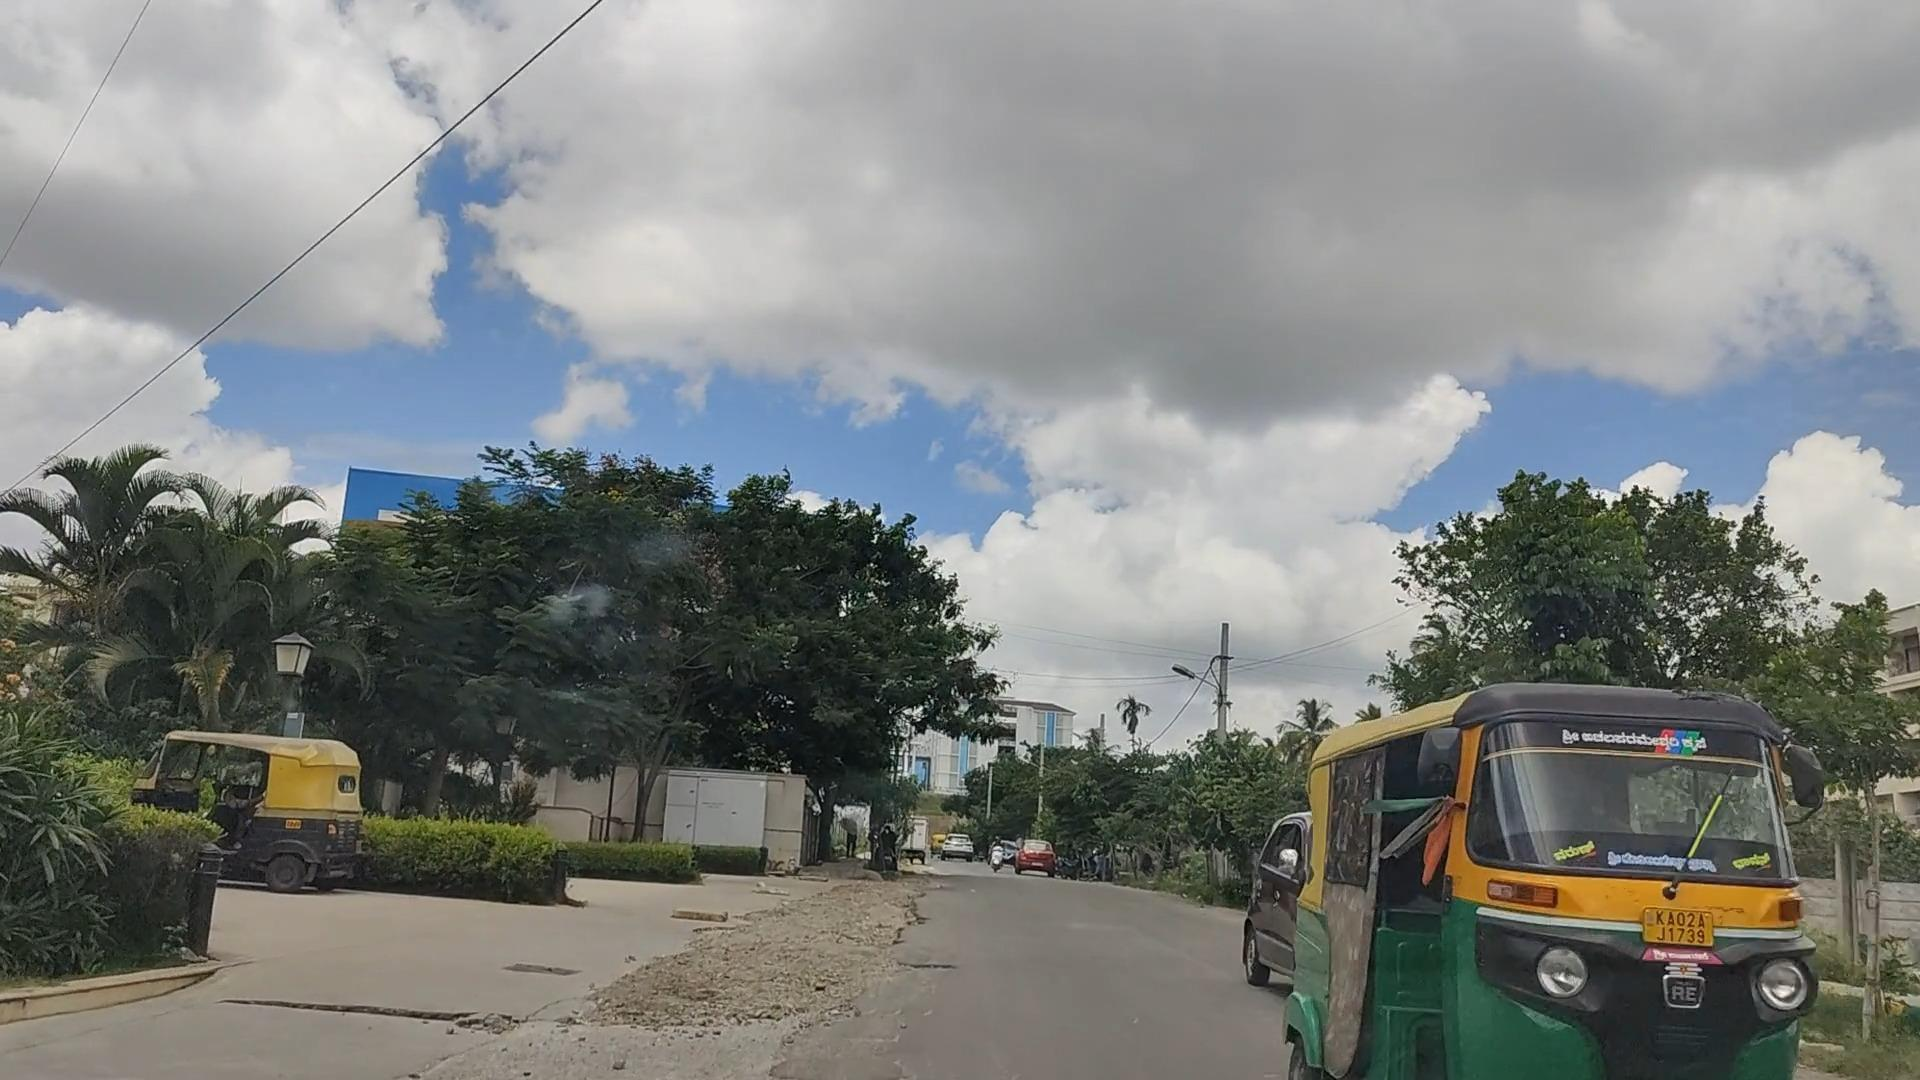RoadDamages: (671, 943, 907, 1080), (781, 873, 1021, 960)
